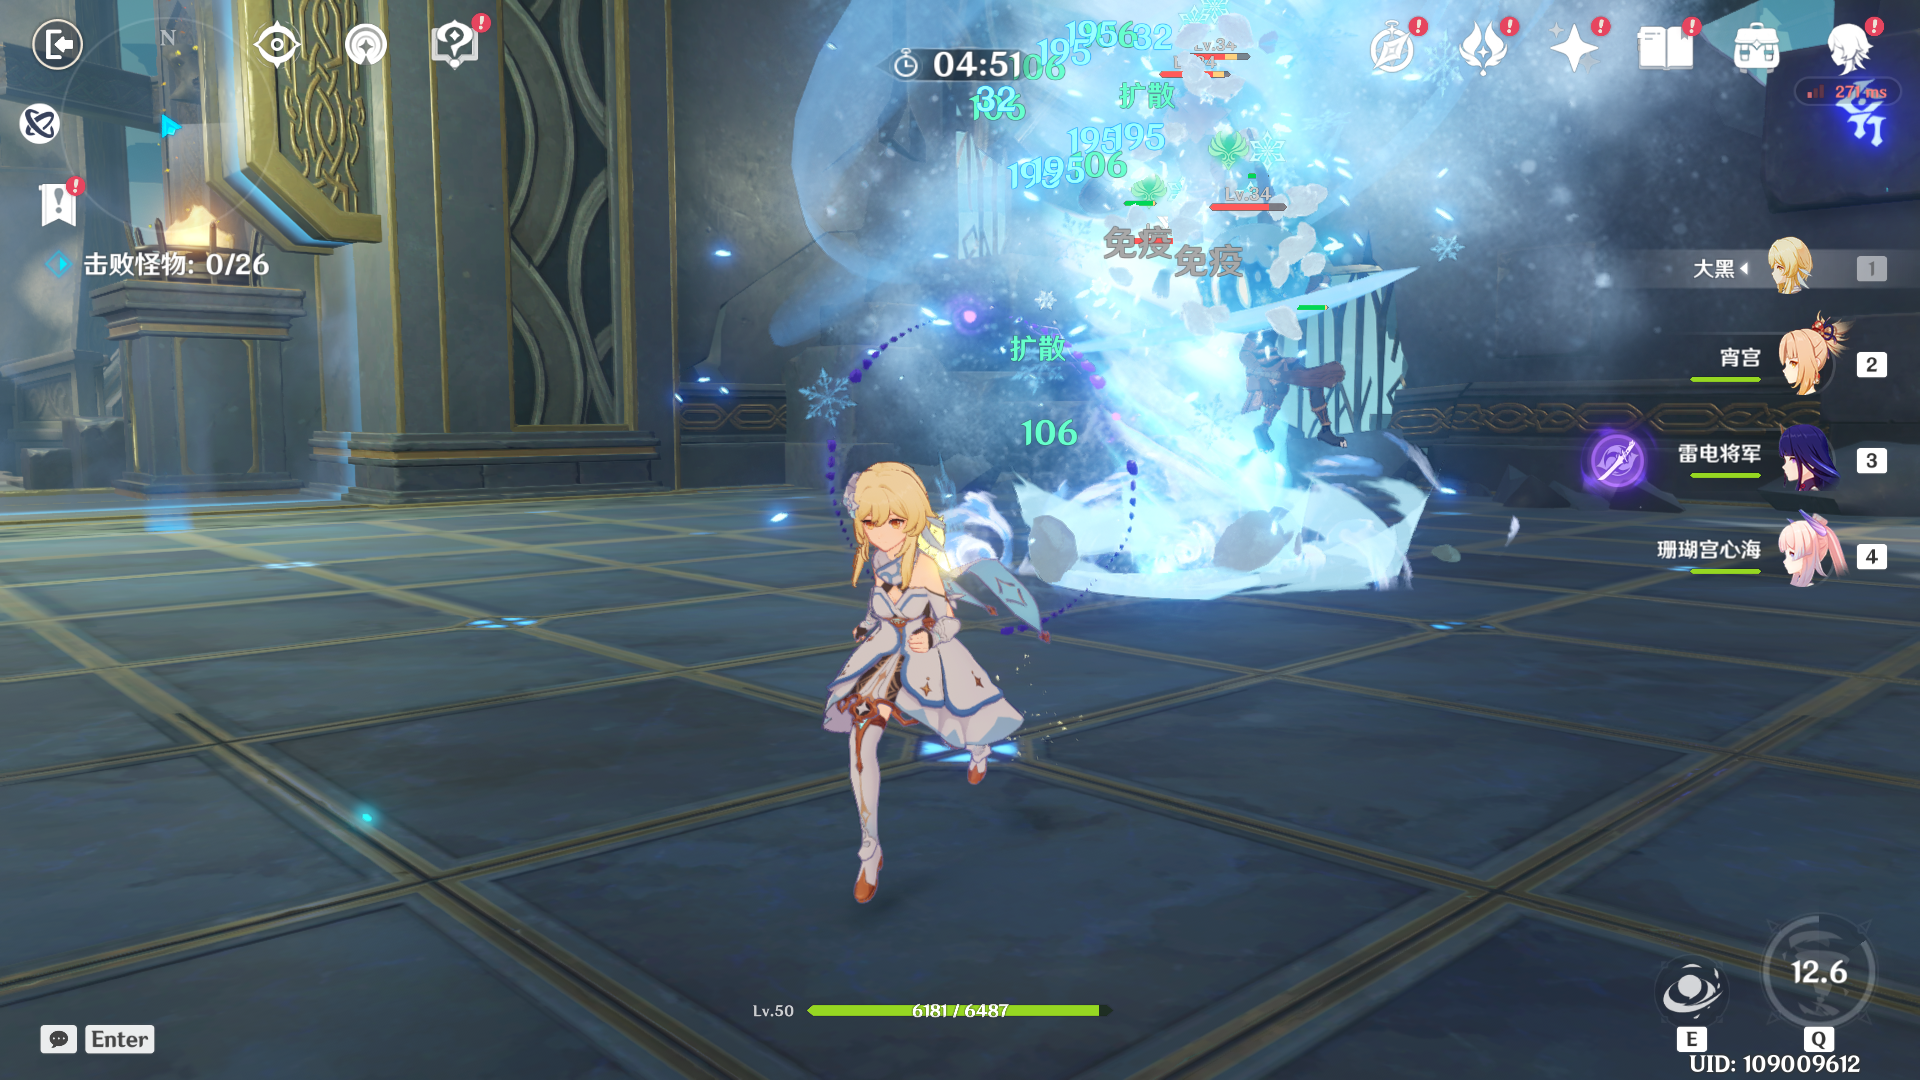character: (767, 455, 1108, 916)
slime: (1185, 214, 1320, 332)
